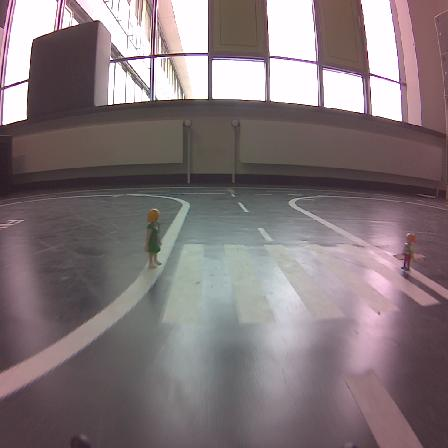CHILD: (402, 233, 415, 271)
PERSON: (145, 209, 161, 267)
